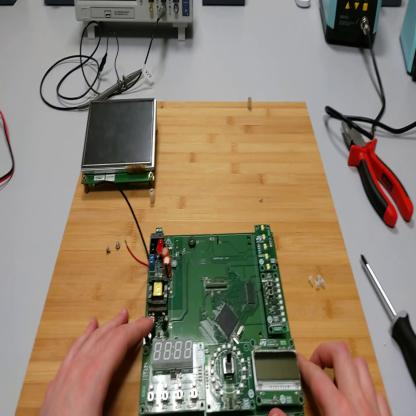hand: (40, 310, 155, 416), (269, 339, 390, 416)
low voltage board: (119, 190, 304, 416)
oscilloscope: (75, 1, 195, 45)
oscilloscope probe tip: (79, 68, 145, 111)
pliers: (342, 114, 414, 228)
screwdriver-: (362, 251, 416, 386)
socket: (45, 2, 73, 9), (1, 1, 18, 8)
welder base: (402, 5, 416, 82)
welder station: (320, 1, 383, 51)
working area: (16, 95, 391, 415)
